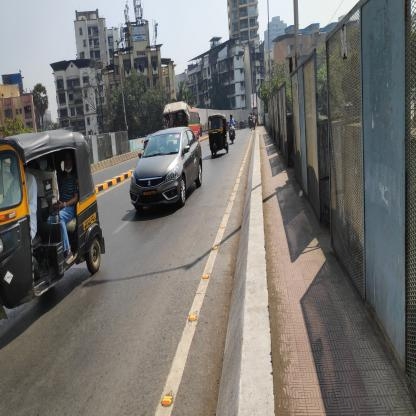license: (143, 188, 156, 199)
